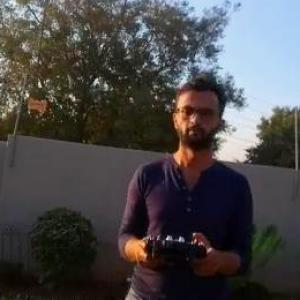follow: (107, 71, 258, 299)
